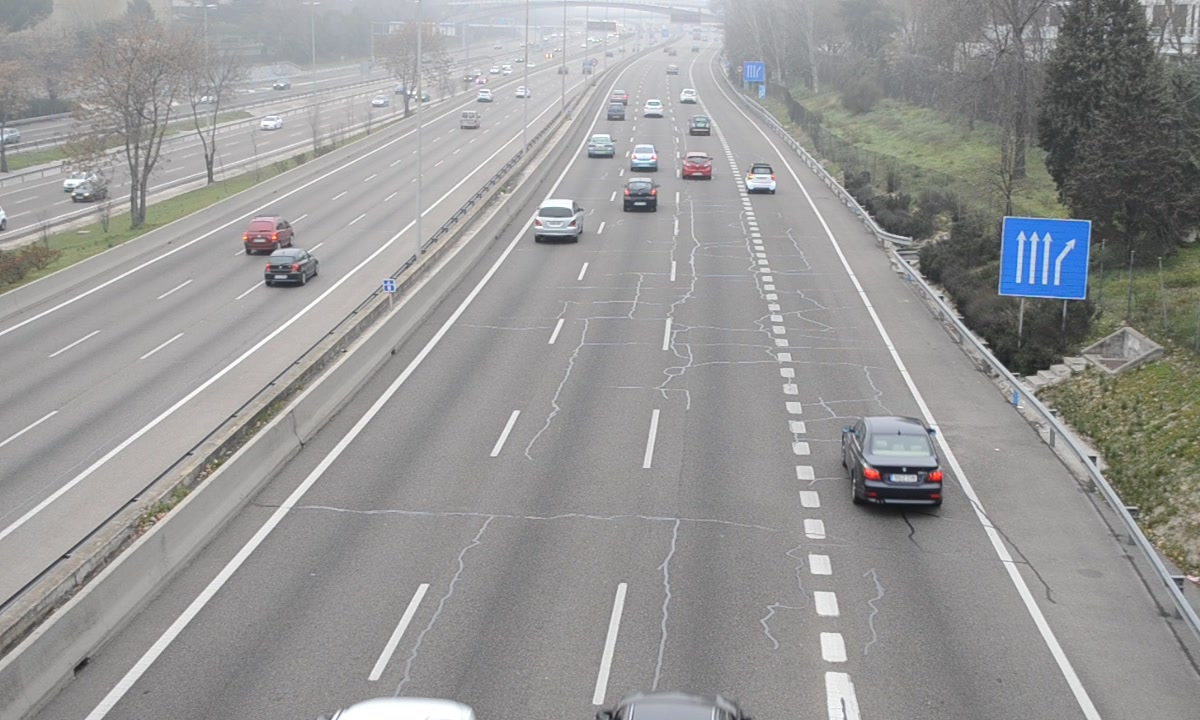car: (844, 417, 948, 509), (534, 198, 584, 240), (620, 177, 659, 215), (744, 161, 778, 196), (680, 151, 714, 183), (629, 143, 659, 173), (585, 133, 616, 159), (688, 114, 712, 137)
